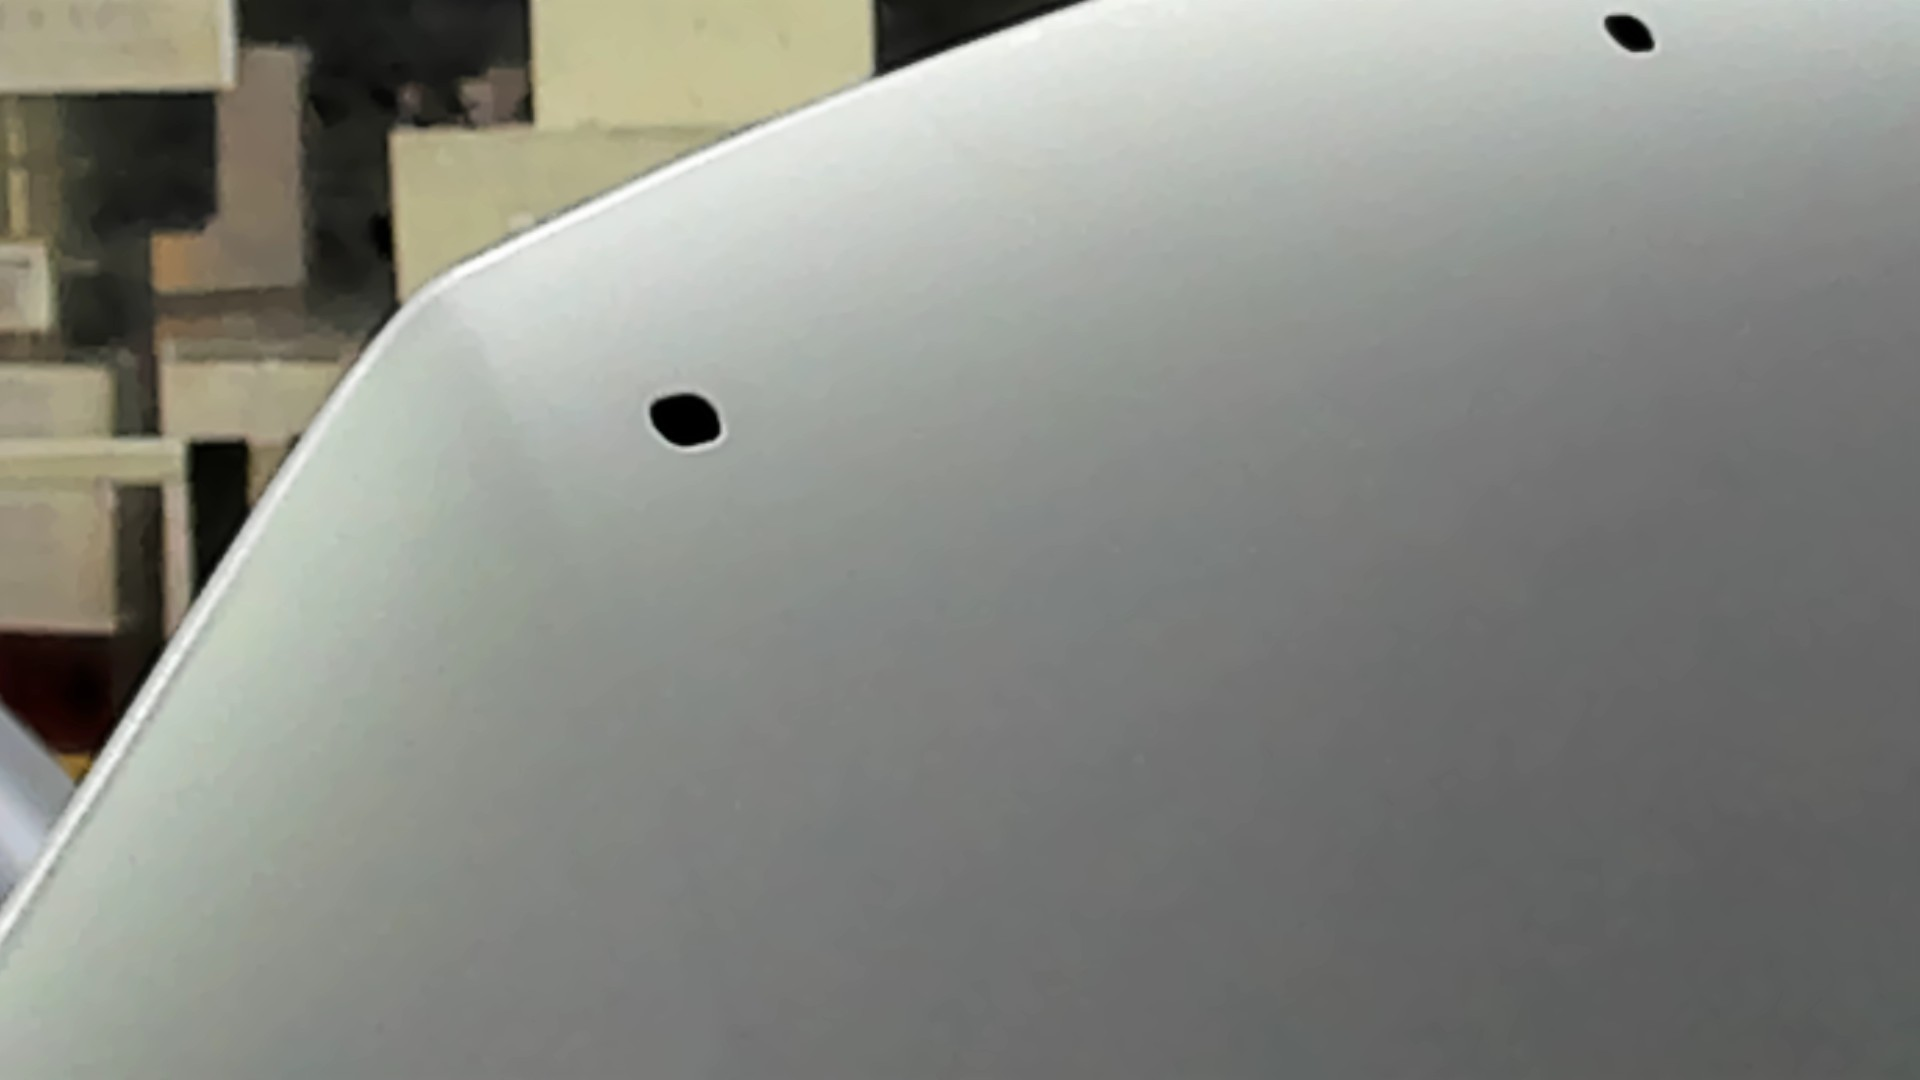amorfo: (642, 382, 735, 455), (1596, 7, 1662, 61)
